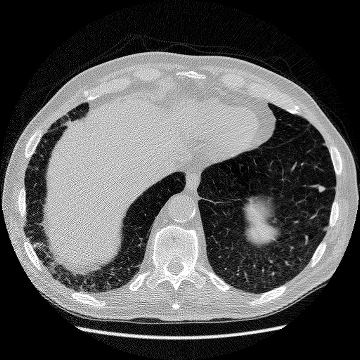nodule: (318, 185, 324, 191)
